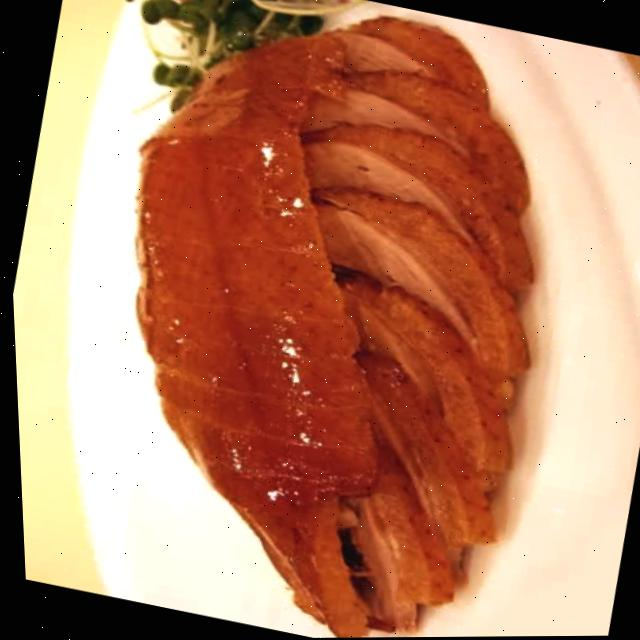烧串烤肉: (16, 0, 640, 640)
